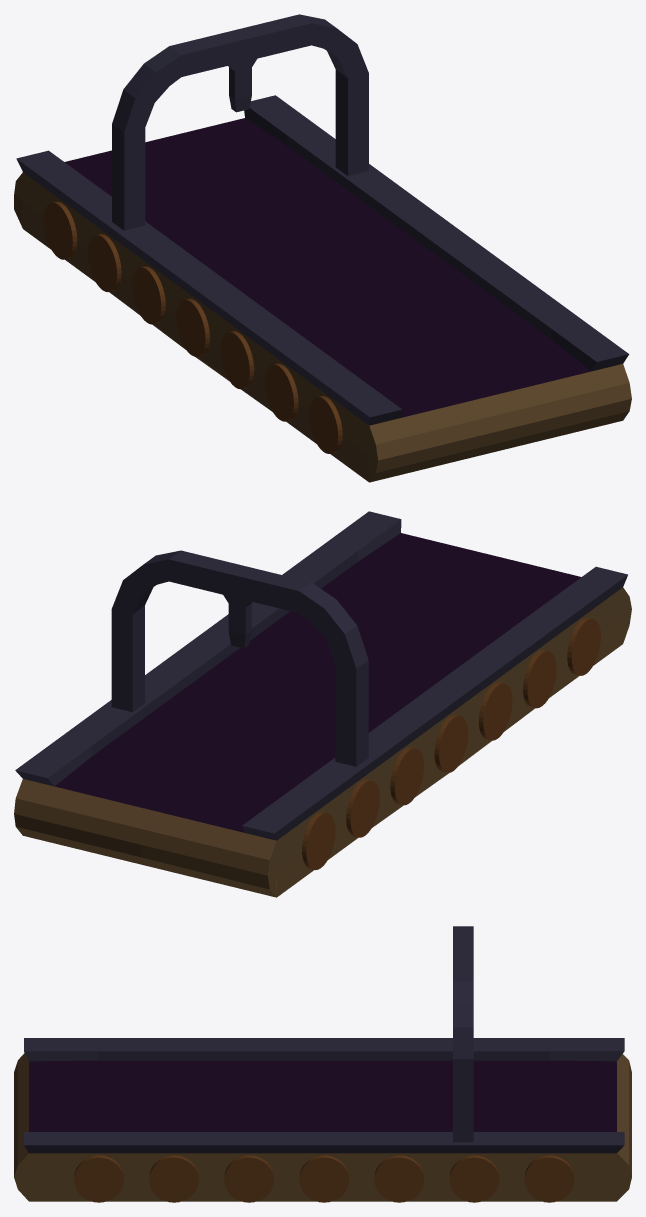
File: ConveyerBelt.fbx
3 renders of one model, top to bottom at view 1: azimuth 30°, elevation 25°; view 2: azimuth 150°, elevation 25°; view 3: azimuth 270°, elevation 25°, orthographic. The views are drawn at different scales.
Parts seen in each view (by area): view 1: Cube.001, Cube.002, Cube, Cube.003, Cylinder.007; view 2: Cube.001, Cube.002, Cube, Cube.003, Cylinder.007; view 3: Cube.001, Cube.002, Cube, Cylinder.007, Cube.003.
Part boxes in pixels (x1=…): Cube.001: x1=65, y1=118, x2=590, y2=417; Cube.002: x1=16, y1=95, x2=629, y2=425; Cube: x1=14, y1=172, x2=631, y2=482; Cube.003: x1=112, y1=14, x2=368, y2=230; Cylinder.007: x1=43, y1=201, x2=342, y2=453; Cube.001: x1=55, y1=533, x2=581, y2=832; Cube.002: x1=15, y1=511, x2=627, y2=840; Cube: x1=14, y1=587, x2=631, y2=897; Cube.003: x1=111, y1=550, x2=368, y2=766; Cylinder.007: x1=302, y1=617, x2=600, y2=870; Cube.001: x1=29, y1=1060, x2=616, y2=1131; Cube.002: x1=24, y1=1038, x2=624, y2=1153; Cube: x1=14, y1=1053, x2=631, y2=1201; Cylinder.007: x1=74, y1=1155, x2=574, y2=1202; Cube.003: x1=453, y1=926, x2=473, y2=1142.
Bounding box in the file's own units: 172 × 144 × 412.
